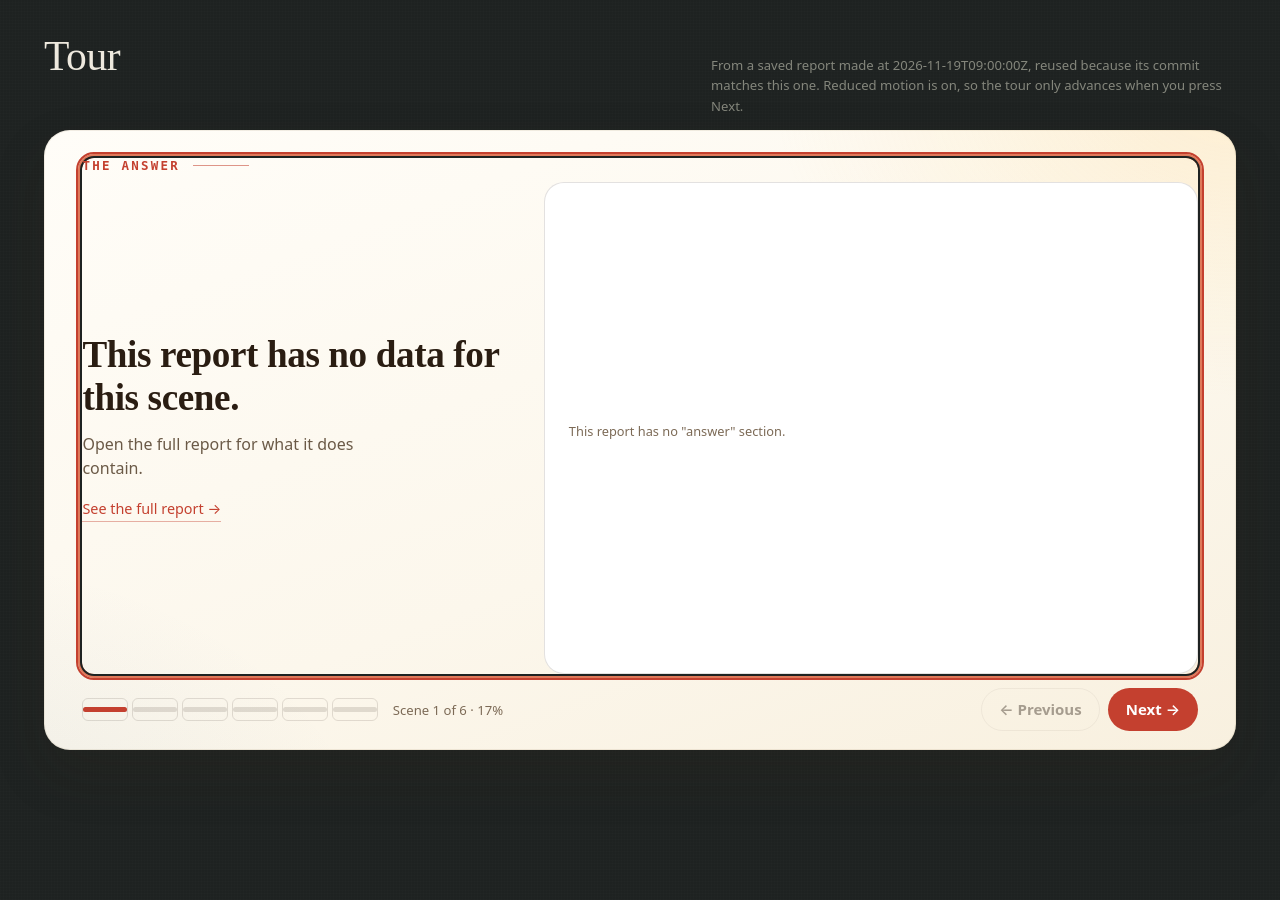
Tour component › uses a saved report whose commit matches and walks through six scenes with Next
Expected: the heading "The answer" is shown, x1=82 y1=158 x2=180 y2=173
What coordinates should you click on to do the following:
click the button "Next →"
I would click on:
 (1153, 710)
Its box is x1=1108 y1=688 x2=1198 y2=731.
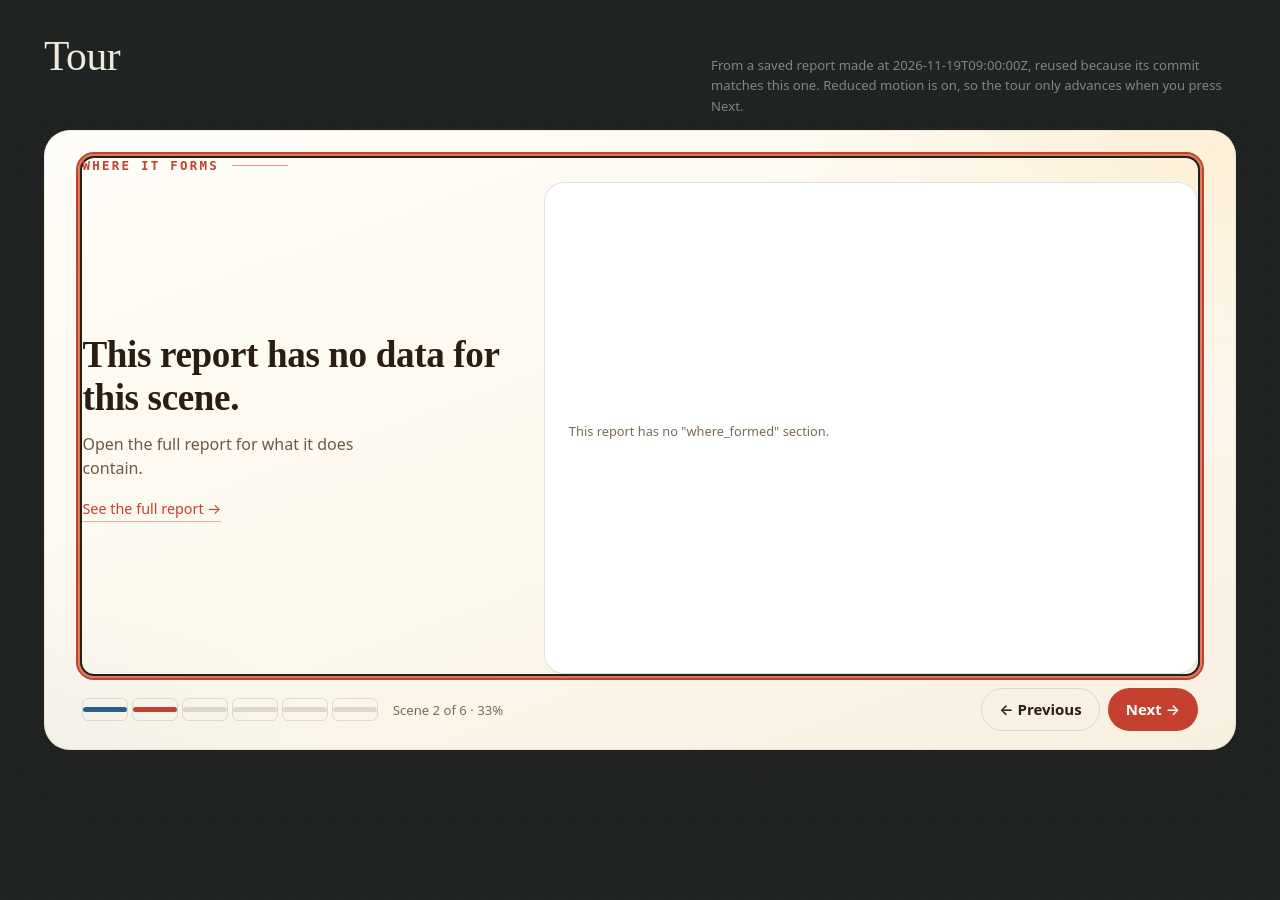
Expected: the heading "Where it forms" is shown, x1=82 y1=158 x2=219 y2=173
What coordinates should you click on to do the following:
click the button "Next →"
I would click on:
 (1153, 710)
Its box is x1=1108 y1=688 x2=1198 y2=731.
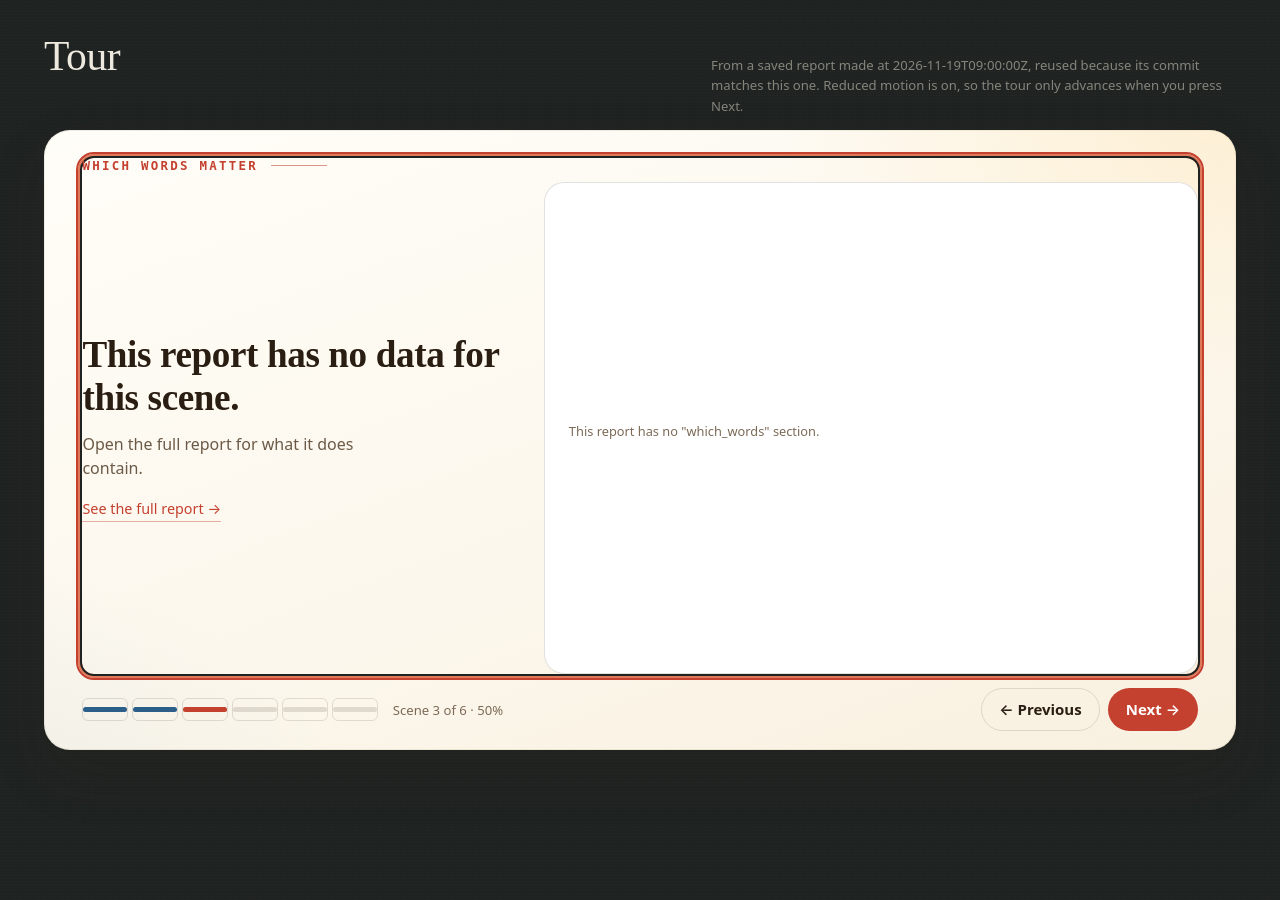
Expected: the heading "Which words matter" is shown, x1=82 y1=158 x2=258 y2=173
What coordinates should you click on to do the following:
click the button "Next →"
I would click on:
 (1153, 710)
Its box is x1=1108 y1=688 x2=1198 y2=731.
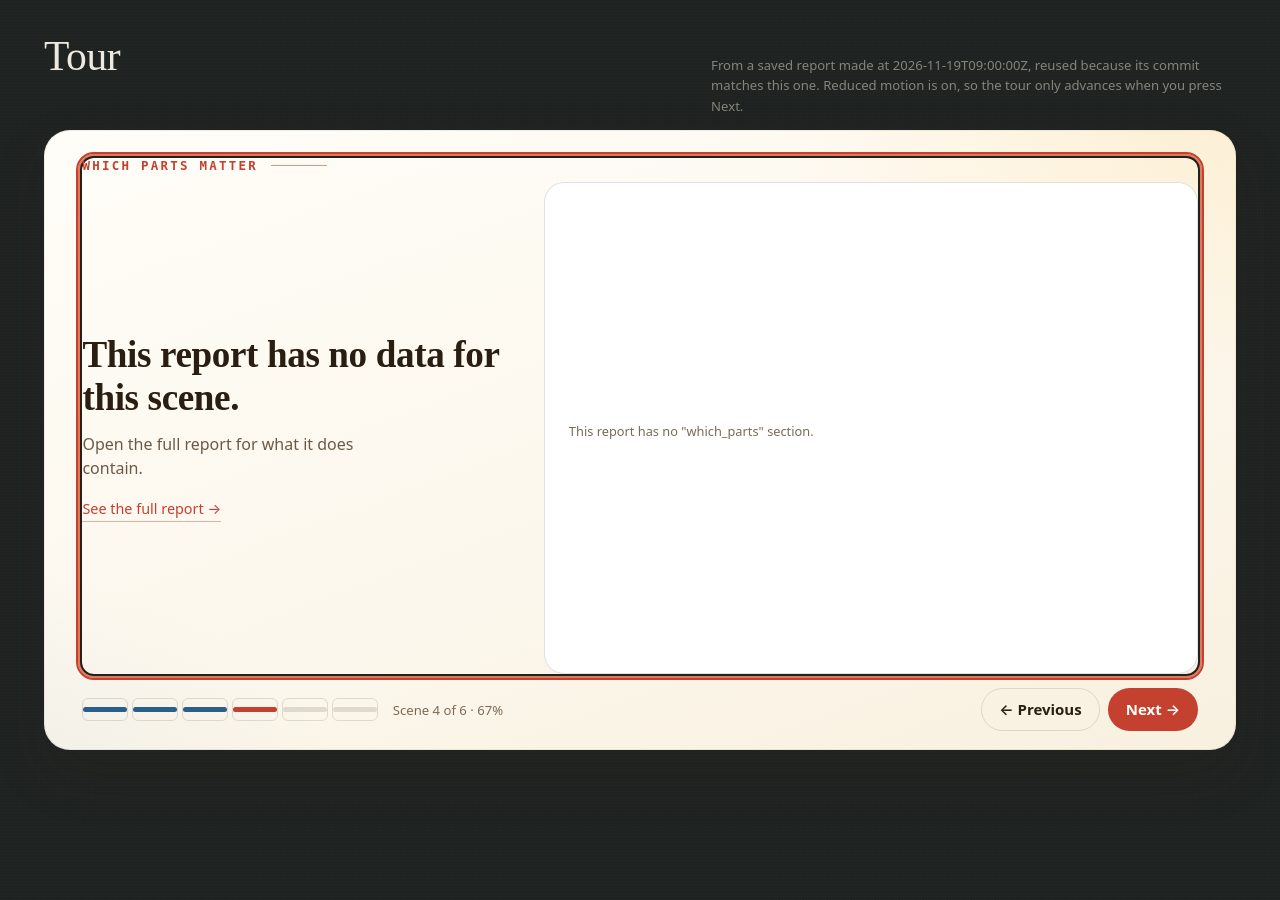
Expected: the heading "Which parts matter" is shown, x1=82 y1=158 x2=258 y2=173
What coordinates should you click on to do the following:
click the button "Next →"
I would click on:
 (1153, 710)
Its box is x1=1108 y1=688 x2=1198 y2=731.
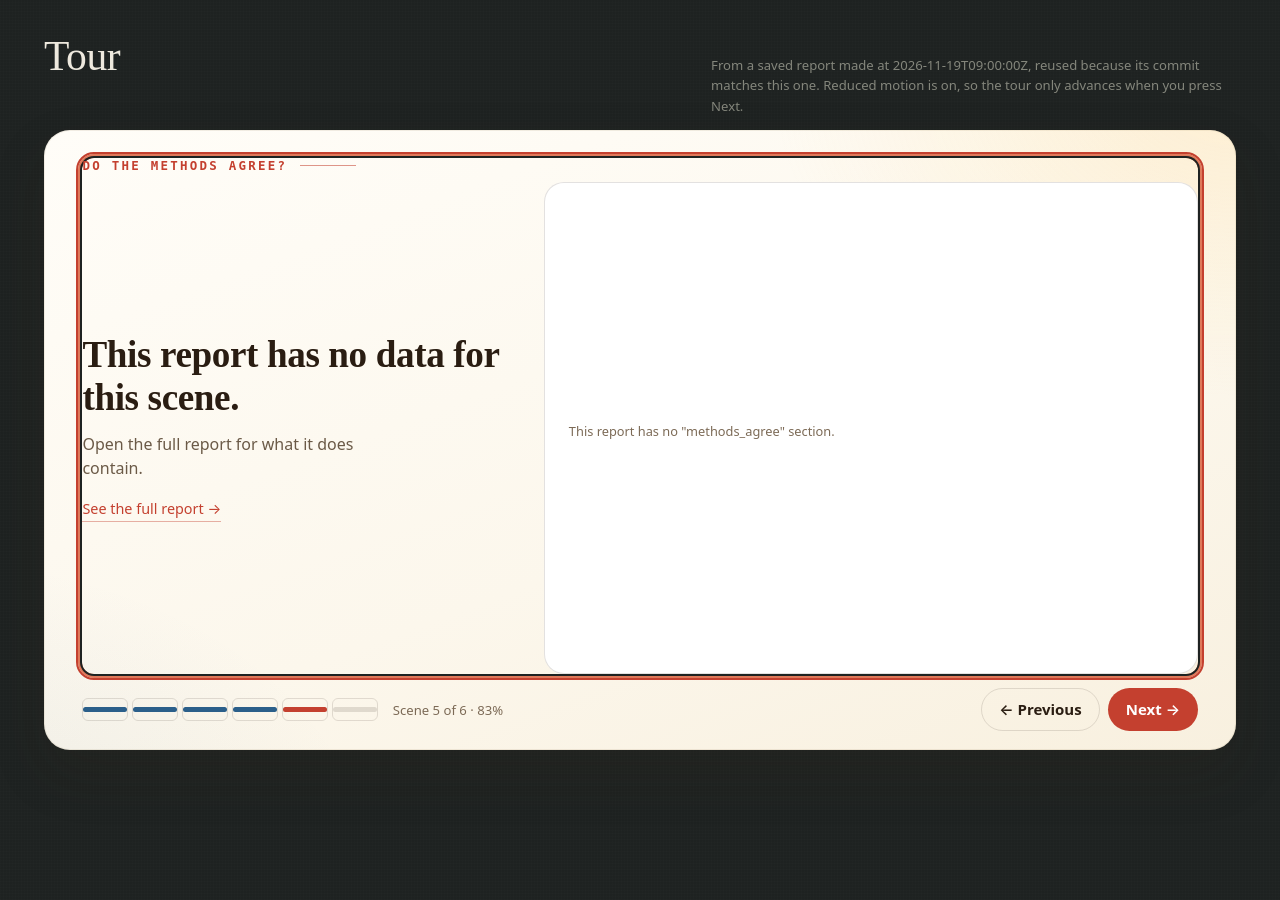
Expected: the heading "Do the methods agree?" is shown, x1=82 y1=158 x2=287 y2=173
What coordinates should you click on to do the following:
click the button "Next →"
I would click on:
 (1153, 710)
Its box is x1=1108 y1=688 x2=1198 y2=731.
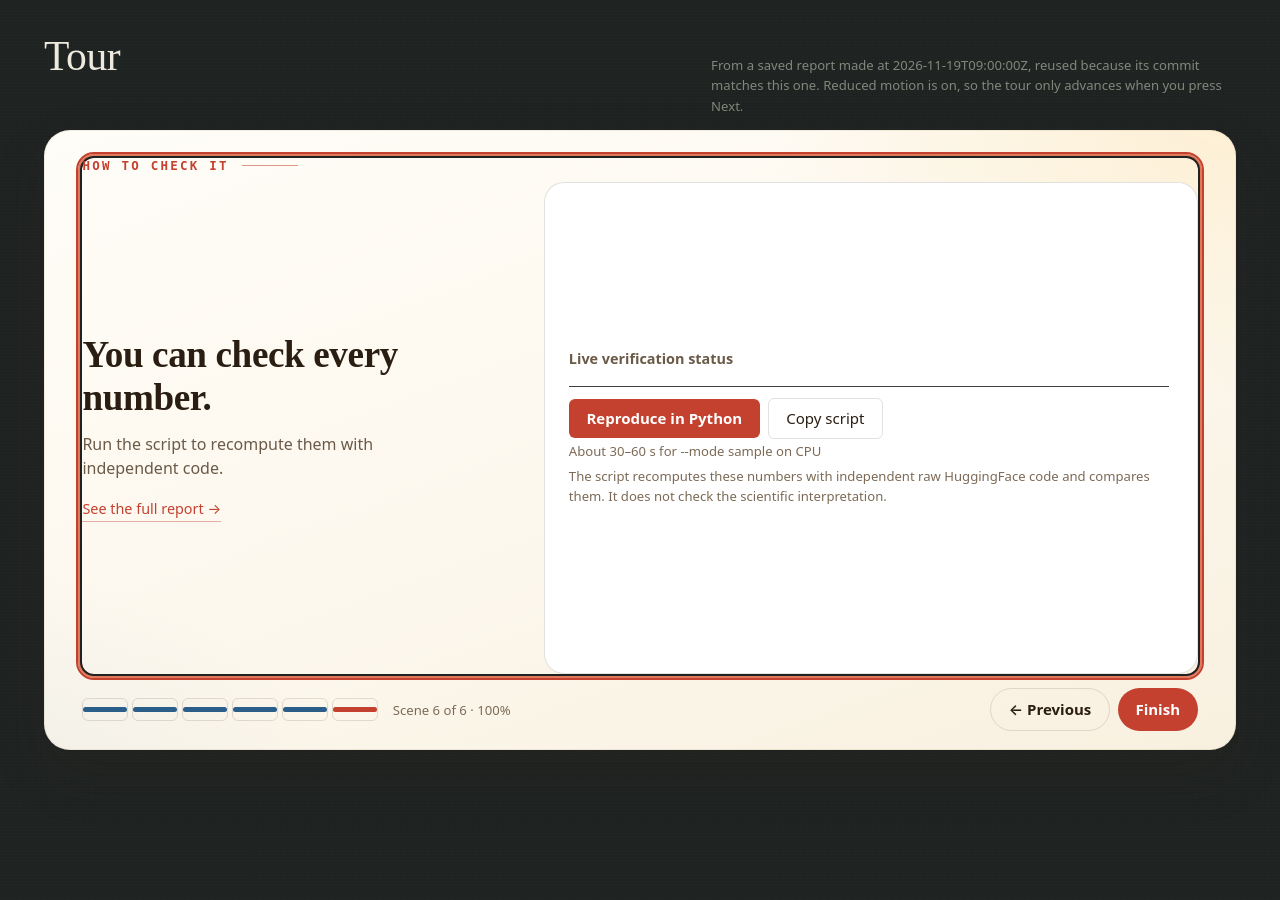
Expected: the heading "How to check it" is shown, x1=82 y1=158 x2=229 y2=173
Expected: the button "Finish" is shown, x1=1118 y1=688 x2=1198 y2=731
